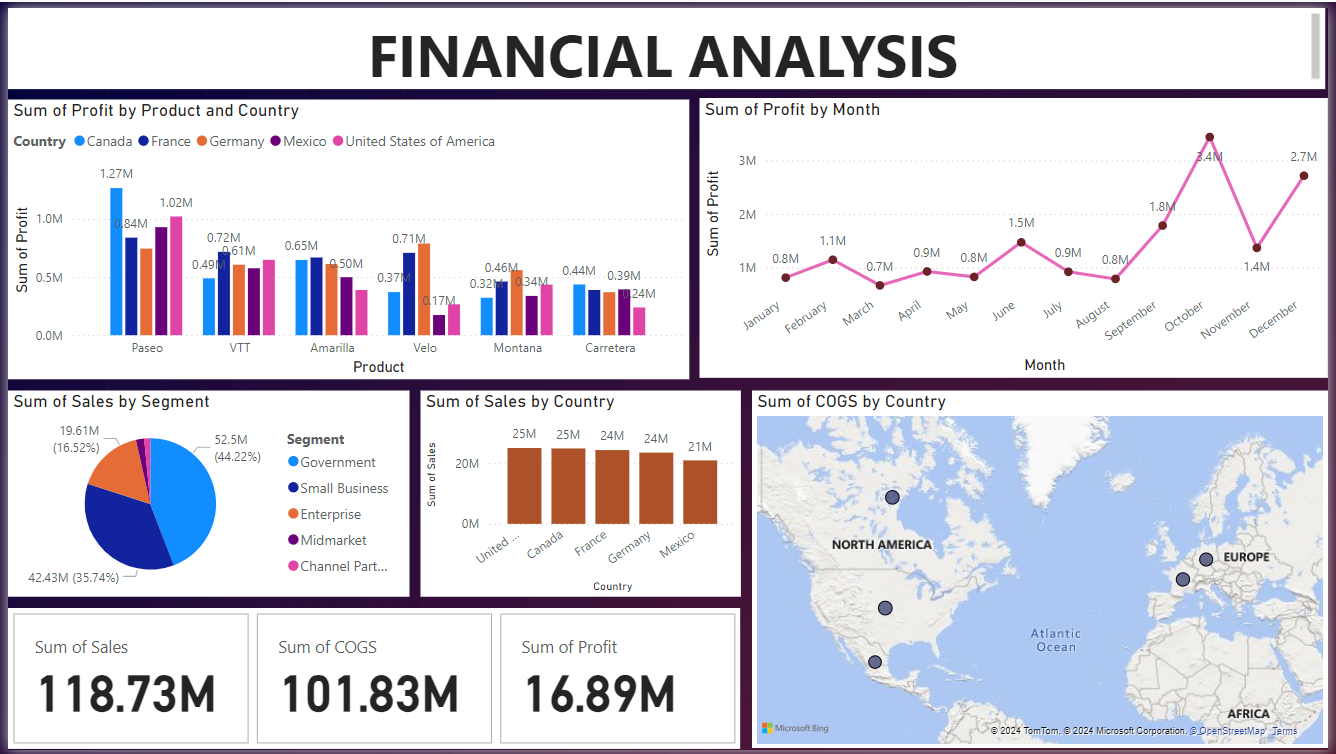

This screenshot's page, from the dashboard's own definition file:
{"tool":"powerbi","page":{"name":"Page 1","canvas":[1280,720],"ordinal":0},"visuals":[{"type":"clusteredColumnChart","fields":{"Y":["Sum(Financial.Profit)"],"Category":["Financial.Product"],"Series":["Financial.Country"]},"box":[0,89.4,660.6,271.2],"z":0},{"type":"clusteredColumnChart","fields":{"Y":["Sum(Financial. Sales)"],"Category":["Financial.Country"]},"box":[400,371.2,310.6,200],"z":1000},{"type":"lineChart","fields":{"Category":["Financial.Date.Variation.Date Hierarchy.Month"],"Y":["Sum(Financial.Profit)"]},"box":[671.2,87.9,609.1,271.2],"z":2000},{"type":"map","fields":{"Category":["Financial.Country"],"Size":["Sum(Financial.COGS)"]},"box":[721.2,371.2,559.1,347],"z":3000},{"type":"cardVisual","fields":{"Data":["Sum(Financial. Sales)","Sum(Financial.COGS)","Sum(Financial.Profit)"]},"box":[0,582.2,710.3,136.8],"z":4000},{"type":"pieChart","fields":{"Category":["Financial.Segment"],"Y":["Sum(Financial. Sales)"]},"box":[0,371.2,389.4,200],"z":5000},{"type":"textbox","box":[0,0,1277.3,78.8],"z":6000}]}

Visuals, with their boxes in screenshot pixels (x1, y1, x2, y2), scaled from the page's 1280x720 canvas onto the 1336x754 screenshot:
clusteredColumnChart - Sum(Financial.Profit) x Financial.Product: region(0, 94, 690, 378)
clusteredColumnChart - Sum(Financial. Sales) x Financial.Country: region(418, 389, 742, 598)
lineChart - Financial.Date.Variation.Date Hierarchy.Month x Sum(Financial.Profit): region(701, 92, 1335, 376)
map - Financial.Country x Sum(Financial.COGS): region(753, 389, 1335, 752)
cardVisual - Sum(Financial. Sales) x Sum(Financial.COGS): region(0, 610, 741, 753)
pieChart - Financial.Segment x Sum(Financial. Sales): region(0, 389, 406, 598)
textbox: region(0, 0, 1333, 83)
